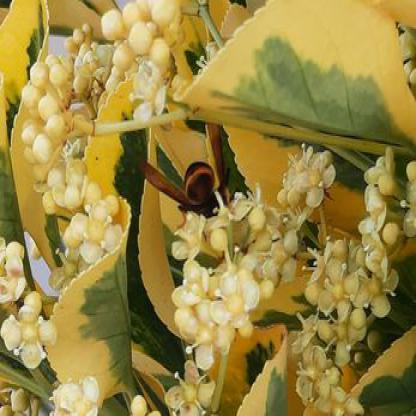Asian Hornet: (147, 124, 239, 223)
